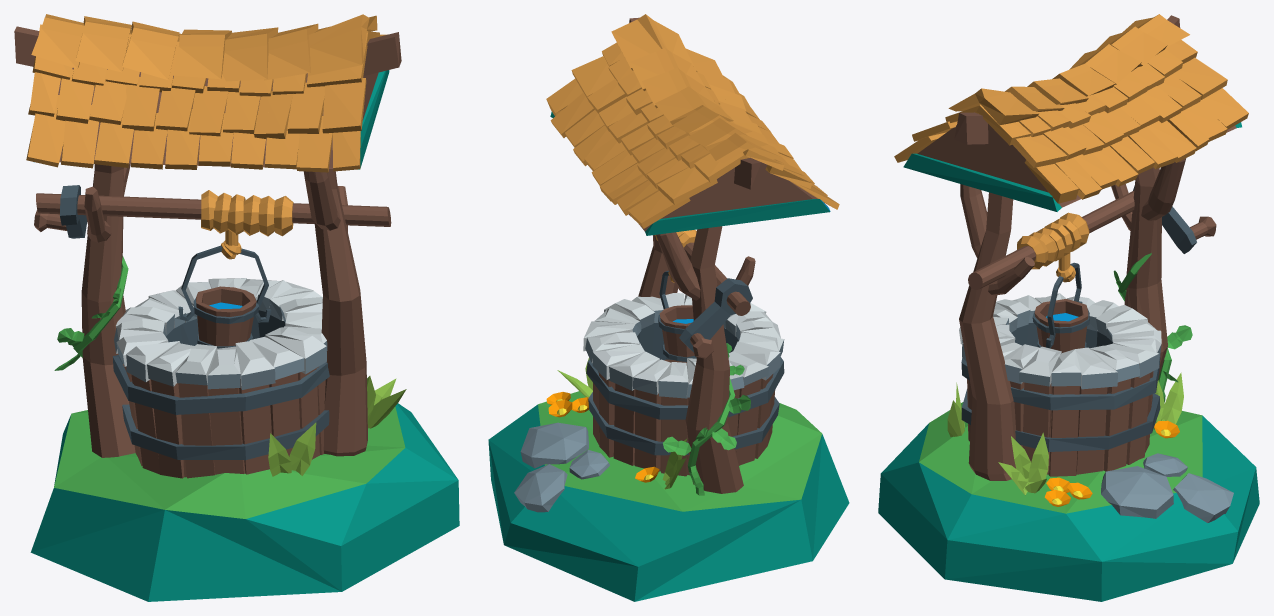
The model's file is WishingWell.glb.
3 renders of one model, left to right at view 1: azimuth 30°, elevation 25°; view 2: azimuth 150°, elevation 25°; view 3: azimuth 270°, elevation 25°, orthographic. The views are drawn at different scales.
Visible parts, largest first — view 1: group1293293119, group1784896143, group1816269119, group1378999907, group1463751419, group712474116, group784225283, group819284552, group904038137, group543979763, group1636832775, group156962315 (+36 smaller); view 2: group1293293119, group1784896143, group1378999907, group1984699503, group644428560, group784225283, group511529357, group464703084, group1463751419, group156962315, group904038137, group543979763 (+26 smaller); view 3: group1293293119, group1784896143, group1816269119, group1984699503, group1378999907, group644428560, group1463751419, group712474116, group464703084, group784225283, group819284552, group1636832775 (+34 smaller).
Boxes of the visible parts, x1,y1,x2,y2 form: group1293293119: [30, 403, 459, 601]; group1784896143: [112, 278, 329, 478]; group1816269119: [303, 169, 367, 456]; group1378999907: [81, 164, 135, 457]; group1463751419: [178, 245, 271, 348]; group712474116: [36, 193, 391, 226]; group784225283: [308, 14, 377, 75]; group819284552: [122, 21, 179, 79]; group904038137: [173, 29, 231, 79]; group543979763: [222, 27, 278, 81]; group1636832775: [75, 16, 131, 72]; group156962315: [264, 23, 318, 80]; group1293293119: [488, 391, 849, 601]; group1784896143: [583, 293, 784, 476]; group1378999907: [656, 226, 755, 493]; group1984699503: [550, 111, 830, 235]; group644428560: [520, 422, 588, 468]; group784225283: [611, 14, 693, 70]; group511529357: [679, 278, 752, 352]; group464703084: [514, 464, 567, 512]; group1463751419: [658, 270, 696, 361]; group156962315: [629, 48, 704, 90]; group904038137: [655, 86, 733, 124]; group543979763: [642, 67, 715, 108]; group1293293119: [878, 402, 1259, 601]; group1784896143: [959, 293, 1161, 476]; group1816269119: [959, 184, 1034, 480]; group1984699503: [903, 122, 1241, 211]; group1378999907: [1111, 158, 1186, 379]; group644428560: [1101, 466, 1173, 518]; group1463751419: [1032, 262, 1089, 352]; group712474116: [968, 190, 1134, 289]; group464703084: [1173, 473, 1233, 522]; group784225283: [948, 88, 1038, 124]; group819284552: [1069, 44, 1141, 84]; group1636832775: [1096, 26, 1167, 66].
Size of the model in its own units: 0.4501 by 0.5819 by 0.4214.
